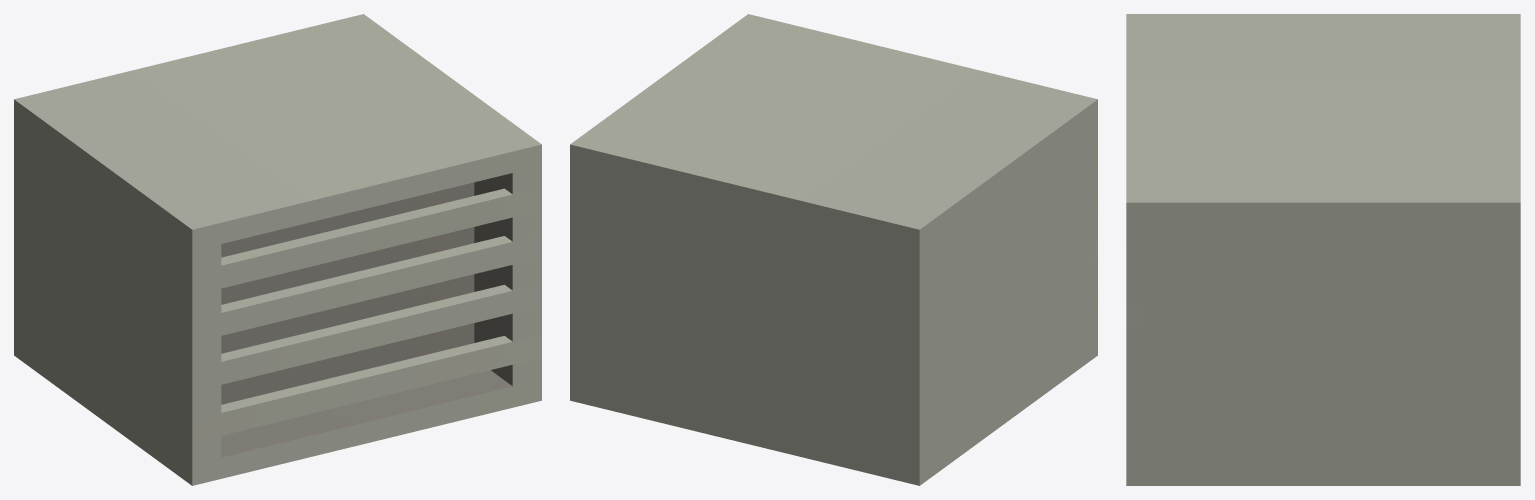
Rendered from ventbox2.fbx.
The picture shows the model from 3 angles, left to right: view 1: azimuth 30°, elevation 25°; view 2: azimuth 150°, elevation 25°; view 3: azimuth 270°, elevation 25°; orthographic projection. The views are drawn at different scales.
Parts seen in each view (by area): view 1: polySurface995; view 2: polySurface995; view 3: polySurface995.
Part boxes in pixels (x1,y1,x2,y2): polySurface995: (14,14,541,485); polySurface995: (570,14,1097,485); polySurface995: (1126,14,1520,485).
Bounding box in the file's own units: 3.16 × 2.21 × 2.79.
Materials: 1 (1 with a texture image).
